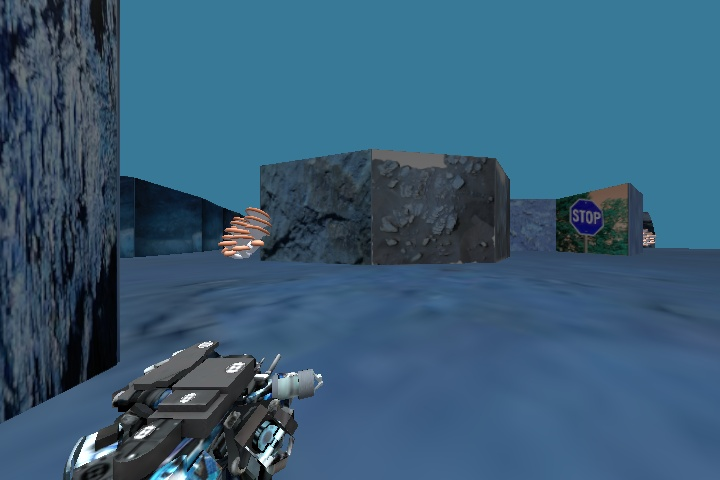mushrooms: (209, 196, 275, 264), (637, 223, 660, 251)
stop_sign: (564, 191, 610, 240)
